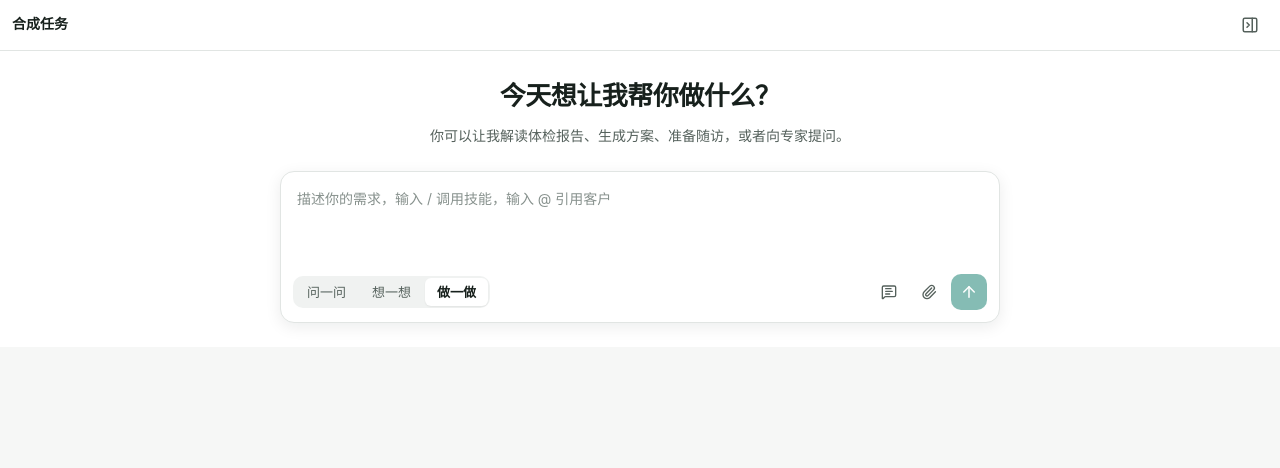
Test: 主对话的专家建议和 10 分钟内沿用（规格 2.5、3.7、Q6） › 10 分钟内同样的请求沿用上次的意见：步骤写明沿用哪个时间的意见，回答写明专家
In the text box: (640, 220) x1=293 y1=184 x2=987 y2=256, type "@内分泌"
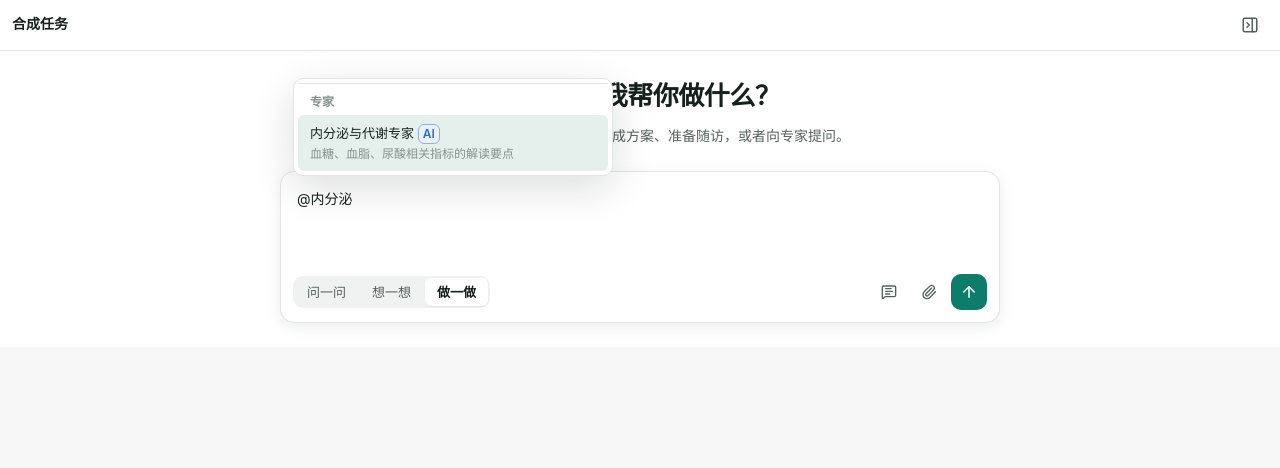
Click the option "内分泌与代谢专家 AI 血糖、血脂、尿酸相关指标的解读要点": click(453, 143) x1=298 y1=115 x2=608 y2=171
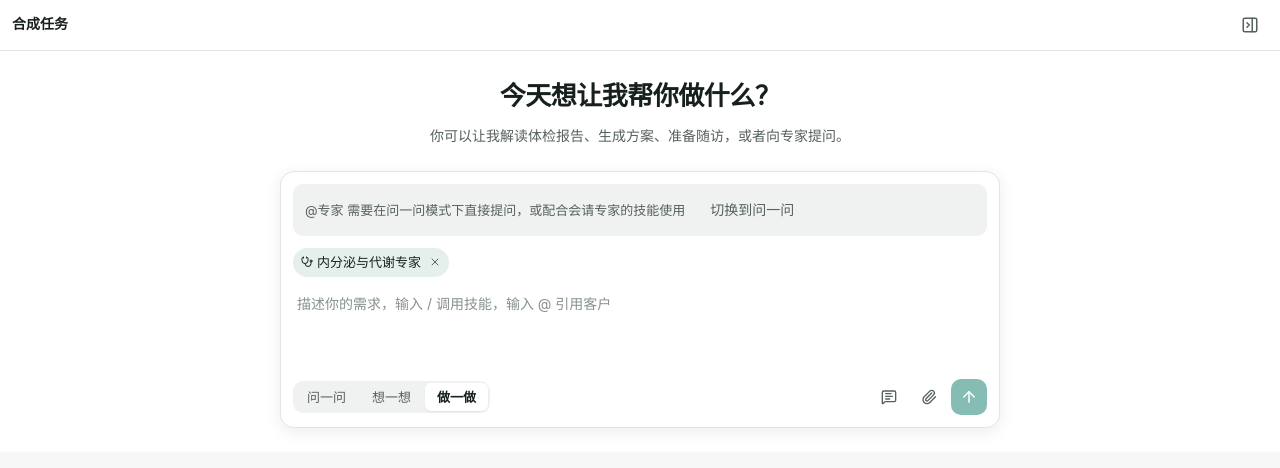
Expected: the text box is shown, x1=293 y1=289 x2=987 y2=361
Click the radio button labelled "问一问": click(326, 397) x1=295 y1=383 x2=358 y2=411
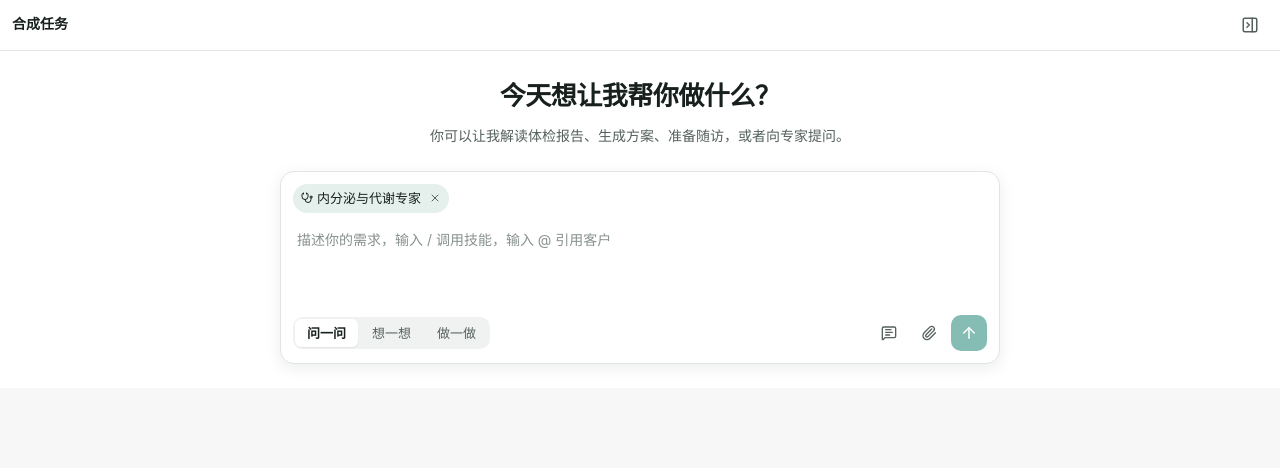
In the text box: (640, 261) x1=293 y1=225 x2=987 y2=297, type "合成问题"
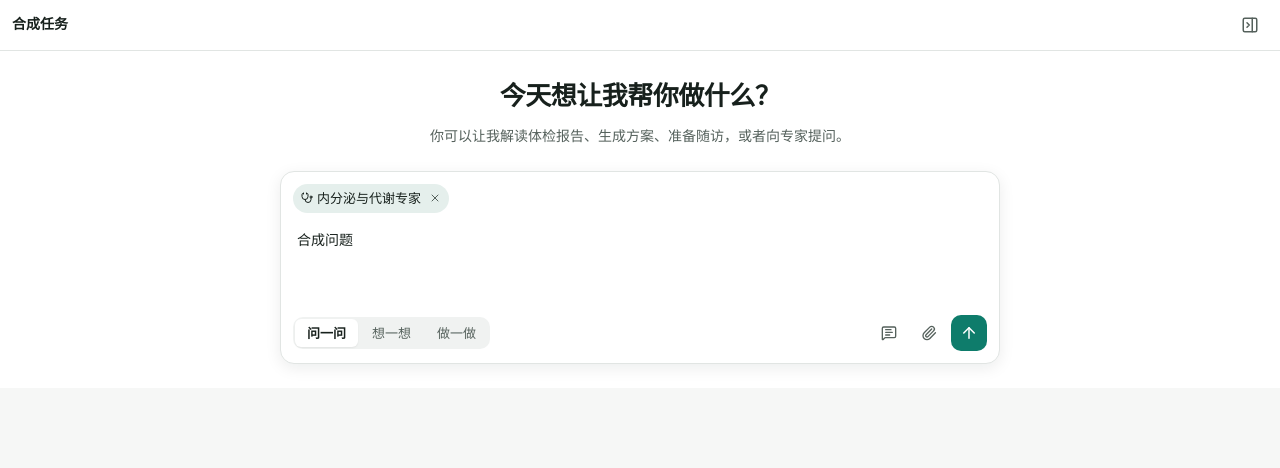
Click the button named "发送": click(969, 333) x1=951 y1=315 x2=987 y2=351
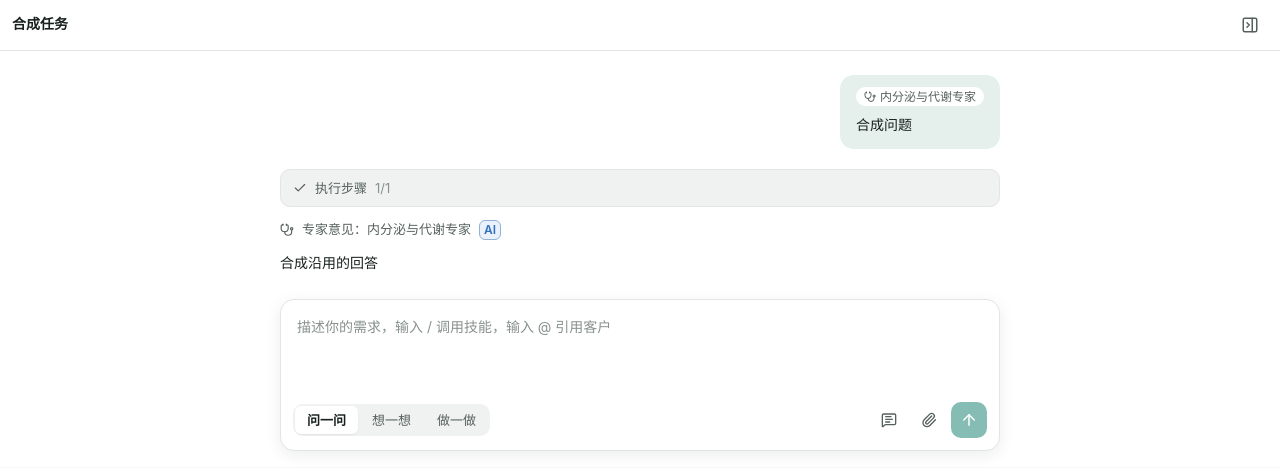
Now the element with test id "answered-by" reads "专家意见：内分泌与代谢专家 AI", box x1=280 y1=219 x2=501 y2=240
